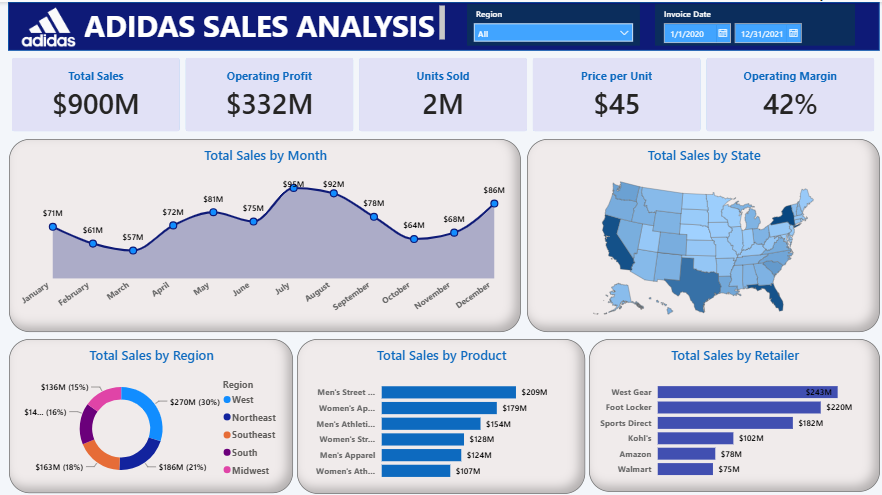

Layout of this report page (visuals, bound fields, positions):
{"tool":"powerbi","page":{"name":"Page 1","canvas":[1280,720],"ordinal":0},"visuals":[{"type":"shape","box":[12,0,1255,70],"z":0},{"type":"textbox","box":[116.7,0,529.3,62.6],"z":1000},{"type":"cardVisual","fields":{"Data":["Sum(Data Sales Adidas.Total Sales)","Sum(Data Sales Adidas.Operating Profit)","Sum(Data Sales Adidas.Units Sold)","Avg(Data Sales Adidas.Price per Unit)","Avg(Data Sales Adidas.Operating Margin)"]},"box":[0,62.9,1280.5,140.5],"z":2000},{"type":"areaChart","title":"Total Sales by Month","fields":{"Category":["Data Sales Adidas.Invoice Date.Variation.Date Hierarchy.Month"],"Y":["Sum(Data Sales Adidas.Total Sales)"]},"box":[13,197,737,277.8],"z":3000},{"type":"shapeMap","title":"Total Sales by State","fields":{"Category":["Data Sales Adidas.State"],"Value":["Sum(Data Sales Adidas.Total Sales)"]},"box":[758.9,197,508.3,277.9],"z":4000},{"type":"donutChart","title":"Total Sales by Region","fields":{"Category":["Data Sales Adidas.Region"],"Y":["Sum(Data Sales Adidas.Total Sales)"]},"box":[13,485,409,221.8],"z":5000},{"type":"barChart","title":"Total Sales by Product","fields":{"Category":["Data Sales Adidas.Product"],"Y":["Sum(Data Sales Adidas.Total Sales)"]},"box":[427,485,414.7,223.2],"z":6000},{"type":"barChart","title":"Total Sales by Retailer","fields":{"Y":["Sum(Data Sales Adidas.Total Sales)"],"Category":["Data Sales Adidas.Retailer"]},"box":[848.2,485,419,220.3],"z":7000},{"type":"slicer","fields":{"Values":["Data Sales Adidas.Region"]},"box":[673.2,2.9,248.8,60],"z":8000},{"type":"slicer","fields":{"Values":["Data Sales Adidas.Invoice Date"]},"box":[943.9,2.9,288.3,60],"z":9000},{"type":"image","box":[0,3.7,138.9,63],"z":10000}]}

Visuals, with their boxes in screenshot pixels (x1, y1, x2, y2), scaled from the page's 1280x720 canvas onto the 882x495 screenshot:
shape: {"left": 8, "top": 0, "right": 873, "bottom": 48}
textbox: {"left": 80, "top": 0, "right": 445, "bottom": 43}
cardVisual - Sum(Data Sales Adidas.Total Sales) x Sum(Data Sales Adidas.Operating Profit): {"left": 0, "top": 43, "right": 881, "bottom": 140}
"Total Sales by Month" areaChart: {"left": 9, "top": 135, "right": 517, "bottom": 326}
"Total Sales by State" shapeMap: {"left": 523, "top": 135, "right": 873, "bottom": 326}
"Total Sales by Region" donutChart: {"left": 9, "top": 333, "right": 291, "bottom": 486}
"Total Sales by Product" barChart: {"left": 294, "top": 333, "right": 580, "bottom": 487}
"Total Sales by Retailer" barChart: {"left": 584, "top": 333, "right": 873, "bottom": 485}
slicer - Data Sales Adidas.Region: {"left": 464, "top": 2, "right": 635, "bottom": 43}
slicer - Data Sales Adidas.Invoice Date: {"left": 650, "top": 2, "right": 849, "bottom": 43}
image: {"left": 0, "top": 3, "right": 96, "bottom": 46}
